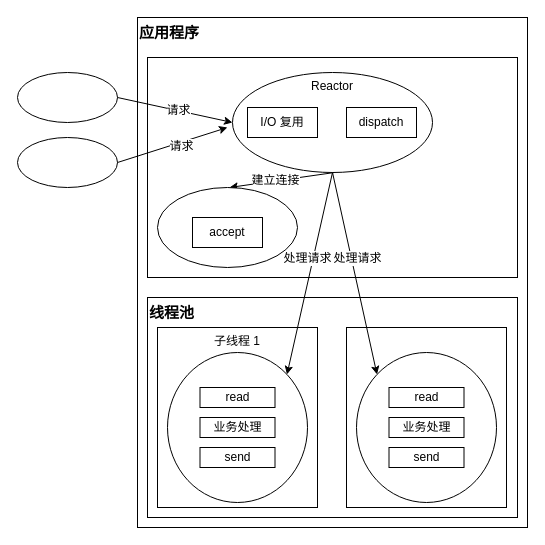
Some shapes in this 545 by 545 pixel diagram are drawn without their labels. Each missing label, with the box of its shape:
Acceptor: (156, 186, 298, 268)
Client 1: (16, 72, 118, 122)
Client2: (16, 136, 118, 188)
Handler 1: (166, 352, 308, 502)
Handler 2: (356, 352, 496, 502)
主线程: (146, 56, 518, 278)
子线程 2: (346, 326, 506, 508)
